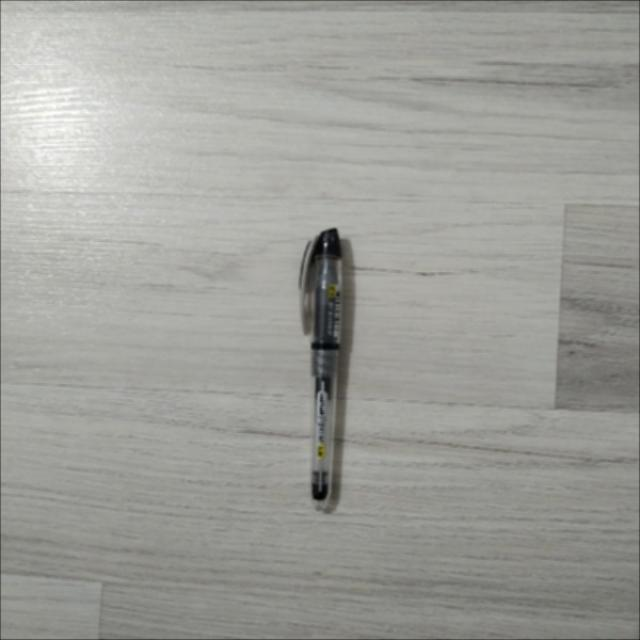pen: (300, 228, 341, 510)
